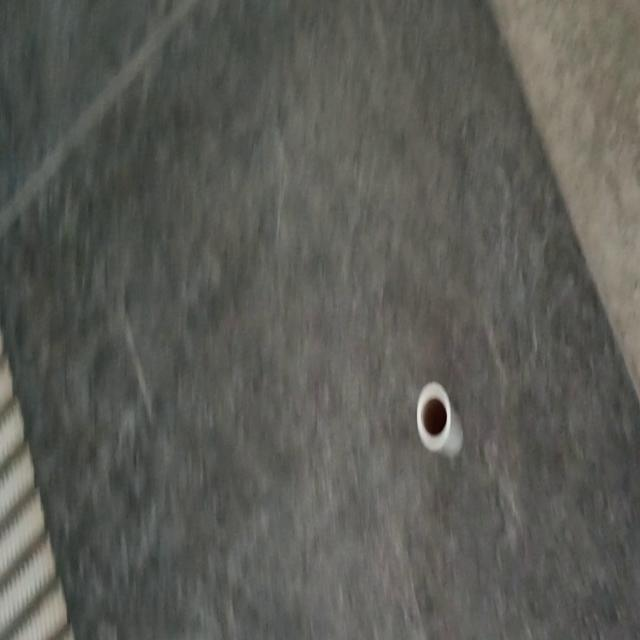Cube: (416, 378, 452, 452)
